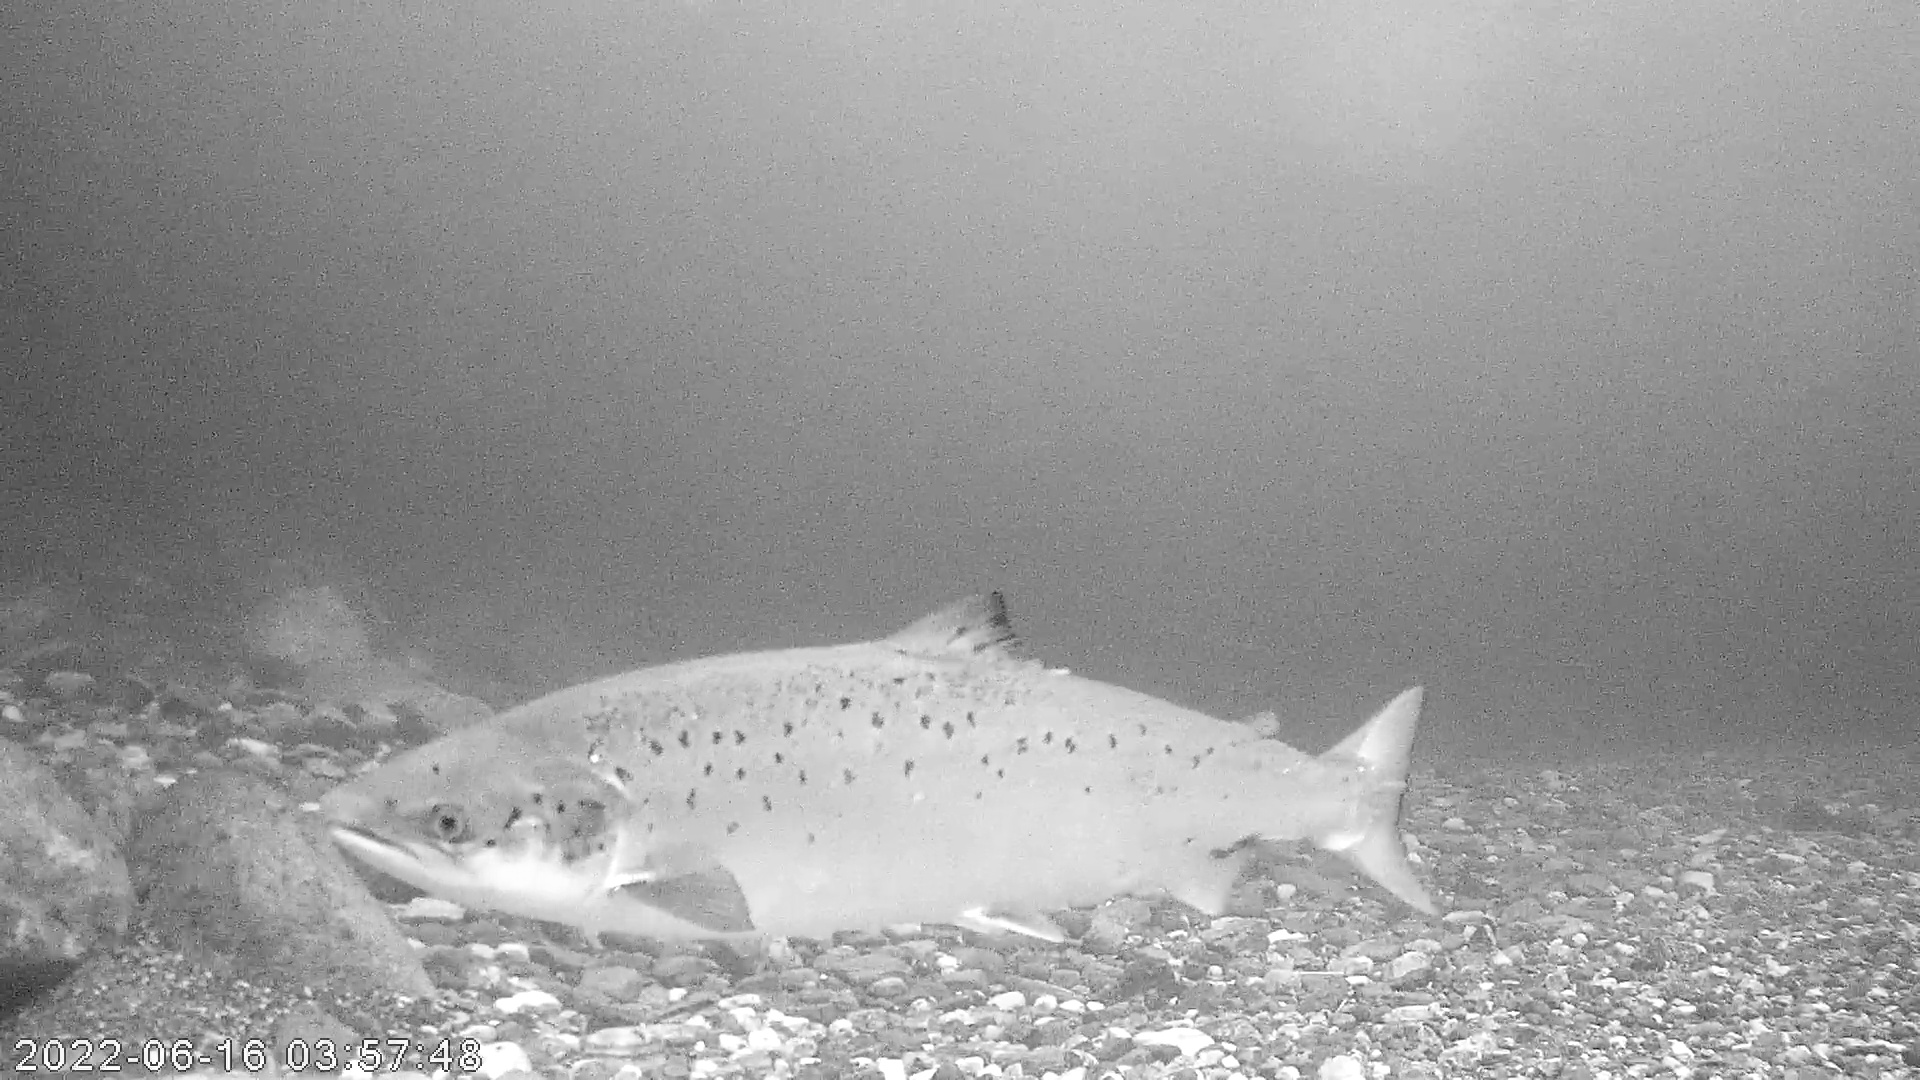salmon: (316, 585, 1441, 945)
